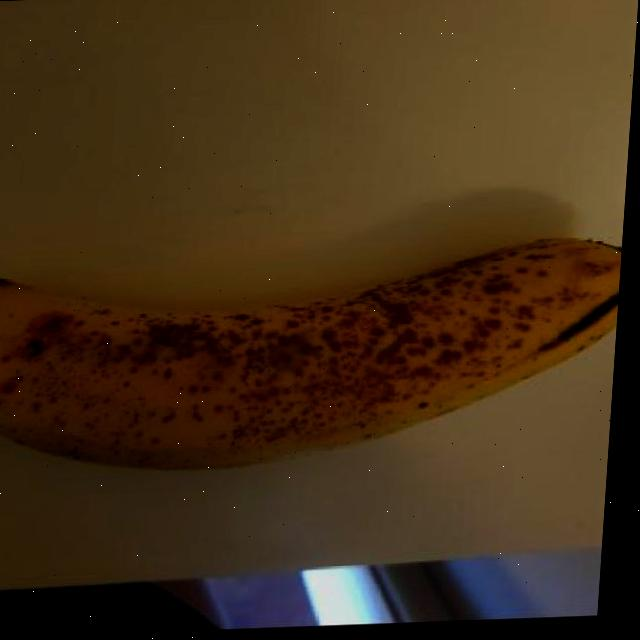banana: (0, 220, 624, 484)
